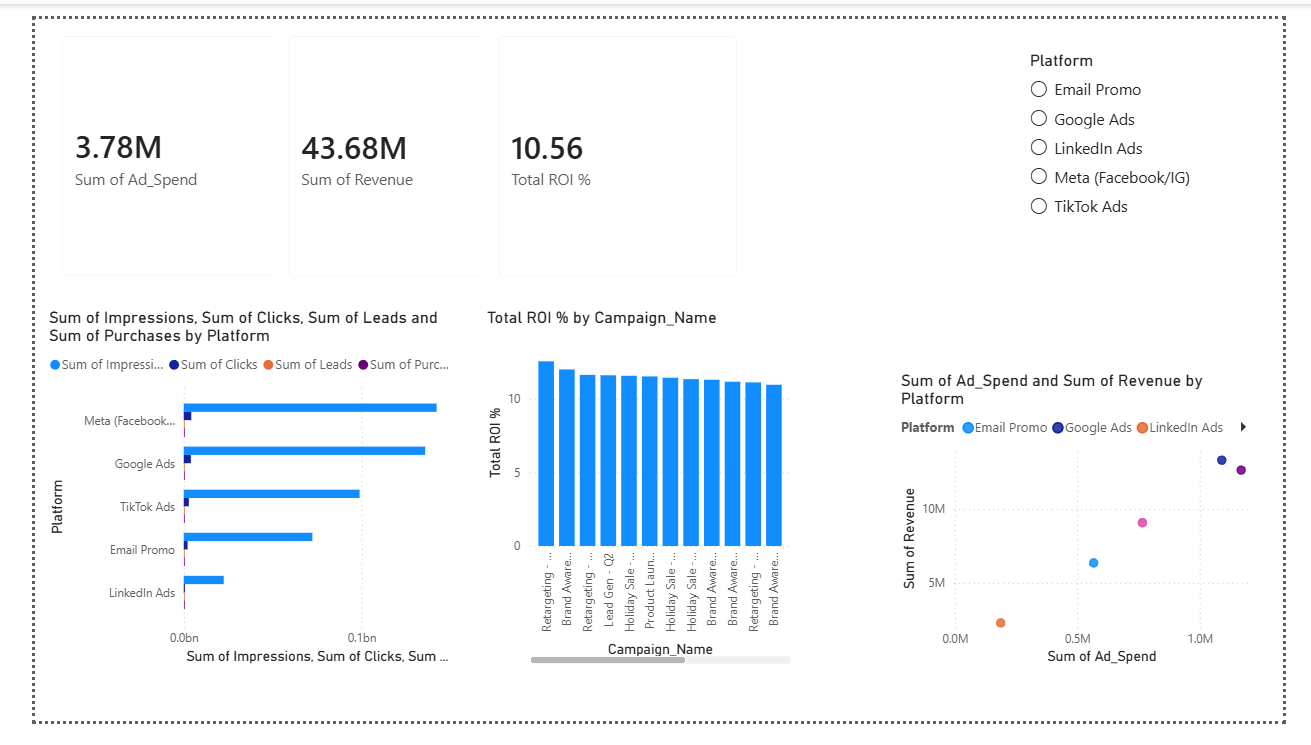

This screenshot's page, from the dashboard's own definition file:
{"tool":"powerbi","page":{"name":"Page 1","canvas":[1280,720],"ordinal":0},"visuals":[{"type":"cardVisual","fields":{"Data":["Sum(marketing_campaign_data.Ad_Spend)"]},"box":[10,0,280,280],"z":0},{"type":"cardVisual","fields":{"Data":["Sum(marketing_campaign_data.Revenue)"]},"box":[243.8,0,279.7,281.6],"z":1},{"type":"cardVisual","fields":{"Data":["marketing_campaign_data.Total ROI %"]},"box":[458.5,0,278.5,281.5],"z":2},{"type":"clusteredBarChart","fields":{"Category":["marketing_campaign_data.Platform"],"Y":["Sum(marketing_campaign_data.Impressions)","Sum(marketing_campaign_data.Clicks)","Sum(marketing_campaign_data.Leads)","Sum(marketing_campaign_data.Purchases)"]},"box":[9.4,294.8,436.5,370.4],"z":3},{"type":"clusteredColumnChart","fields":{"Category":["marketing_campaign_data.Campaign_Name"],"Y":["marketing_campaign_data.Total ROI %"]},"box":[458.5,295.4,321.5,370.8],"z":4},{"type":"scatterChart","fields":{"X":["Sum(marketing_campaign_data.Ad_Spend)"],"Y":["Sum(marketing_campaign_data.Revenue)"],"Series":["marketing_campaign_data.Platform"]},"box":[883.1,360,375.4,306.2],"z":5},{"type":"listSlicer","fields":{"Values":["marketing_campaign_data.Platform"]},"box":[1015.4,32.3,229.2,280],"z":6}]}

Visuals, with their boxes in screenshot pixels (x1, y1, x2, y2), scaled from the page's 1280x720 canvas onto the 1311x745 screenshot:
cardVisual - Sum(marketing_campaign_data.Ad_Spend): left=10, top=0, right=297, bottom=290
cardVisual - Sum(marketing_campaign_data.Revenue): left=250, top=0, right=536, bottom=291
cardVisual - marketing_campaign_data.Total ROI %: left=470, top=0, right=755, bottom=291
clusteredBarChart - marketing_campaign_data.Platform x Sum(marketing_campaign_data.Impressions): left=10, top=305, right=457, bottom=688
clusteredColumnChart - marketing_campaign_data.Campaign_Name x marketing_campaign_data.Total ROI %: left=470, top=306, right=799, bottom=689
scatterChart - Sum(marketing_campaign_data.Ad_Spend) x Sum(marketing_campaign_data.Revenue): left=904, top=373, right=1289, bottom=689
listSlicer - marketing_campaign_data.Platform: left=1040, top=33, right=1275, bottom=323
